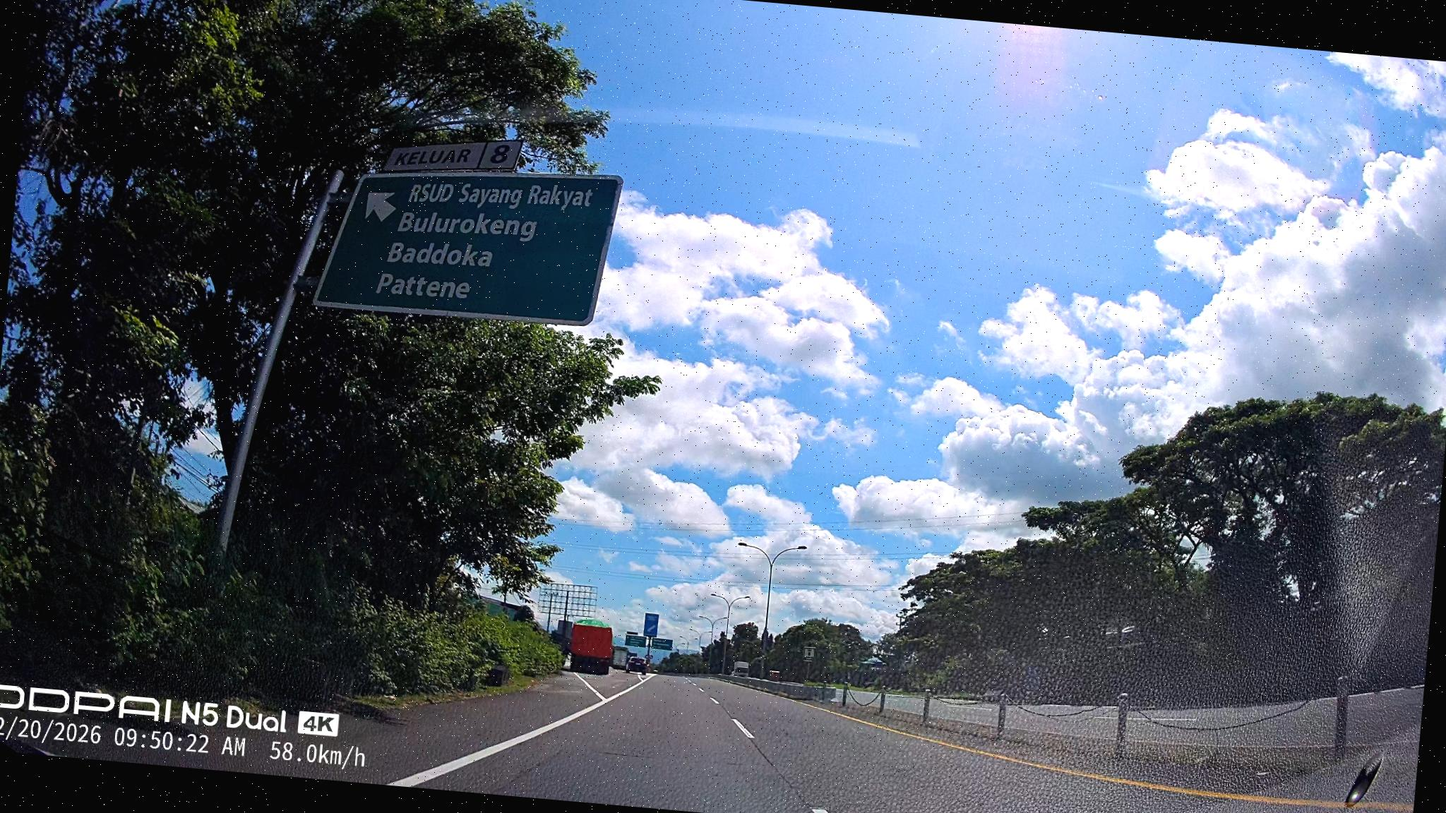rambu_teks: (311, 147, 627, 334)
